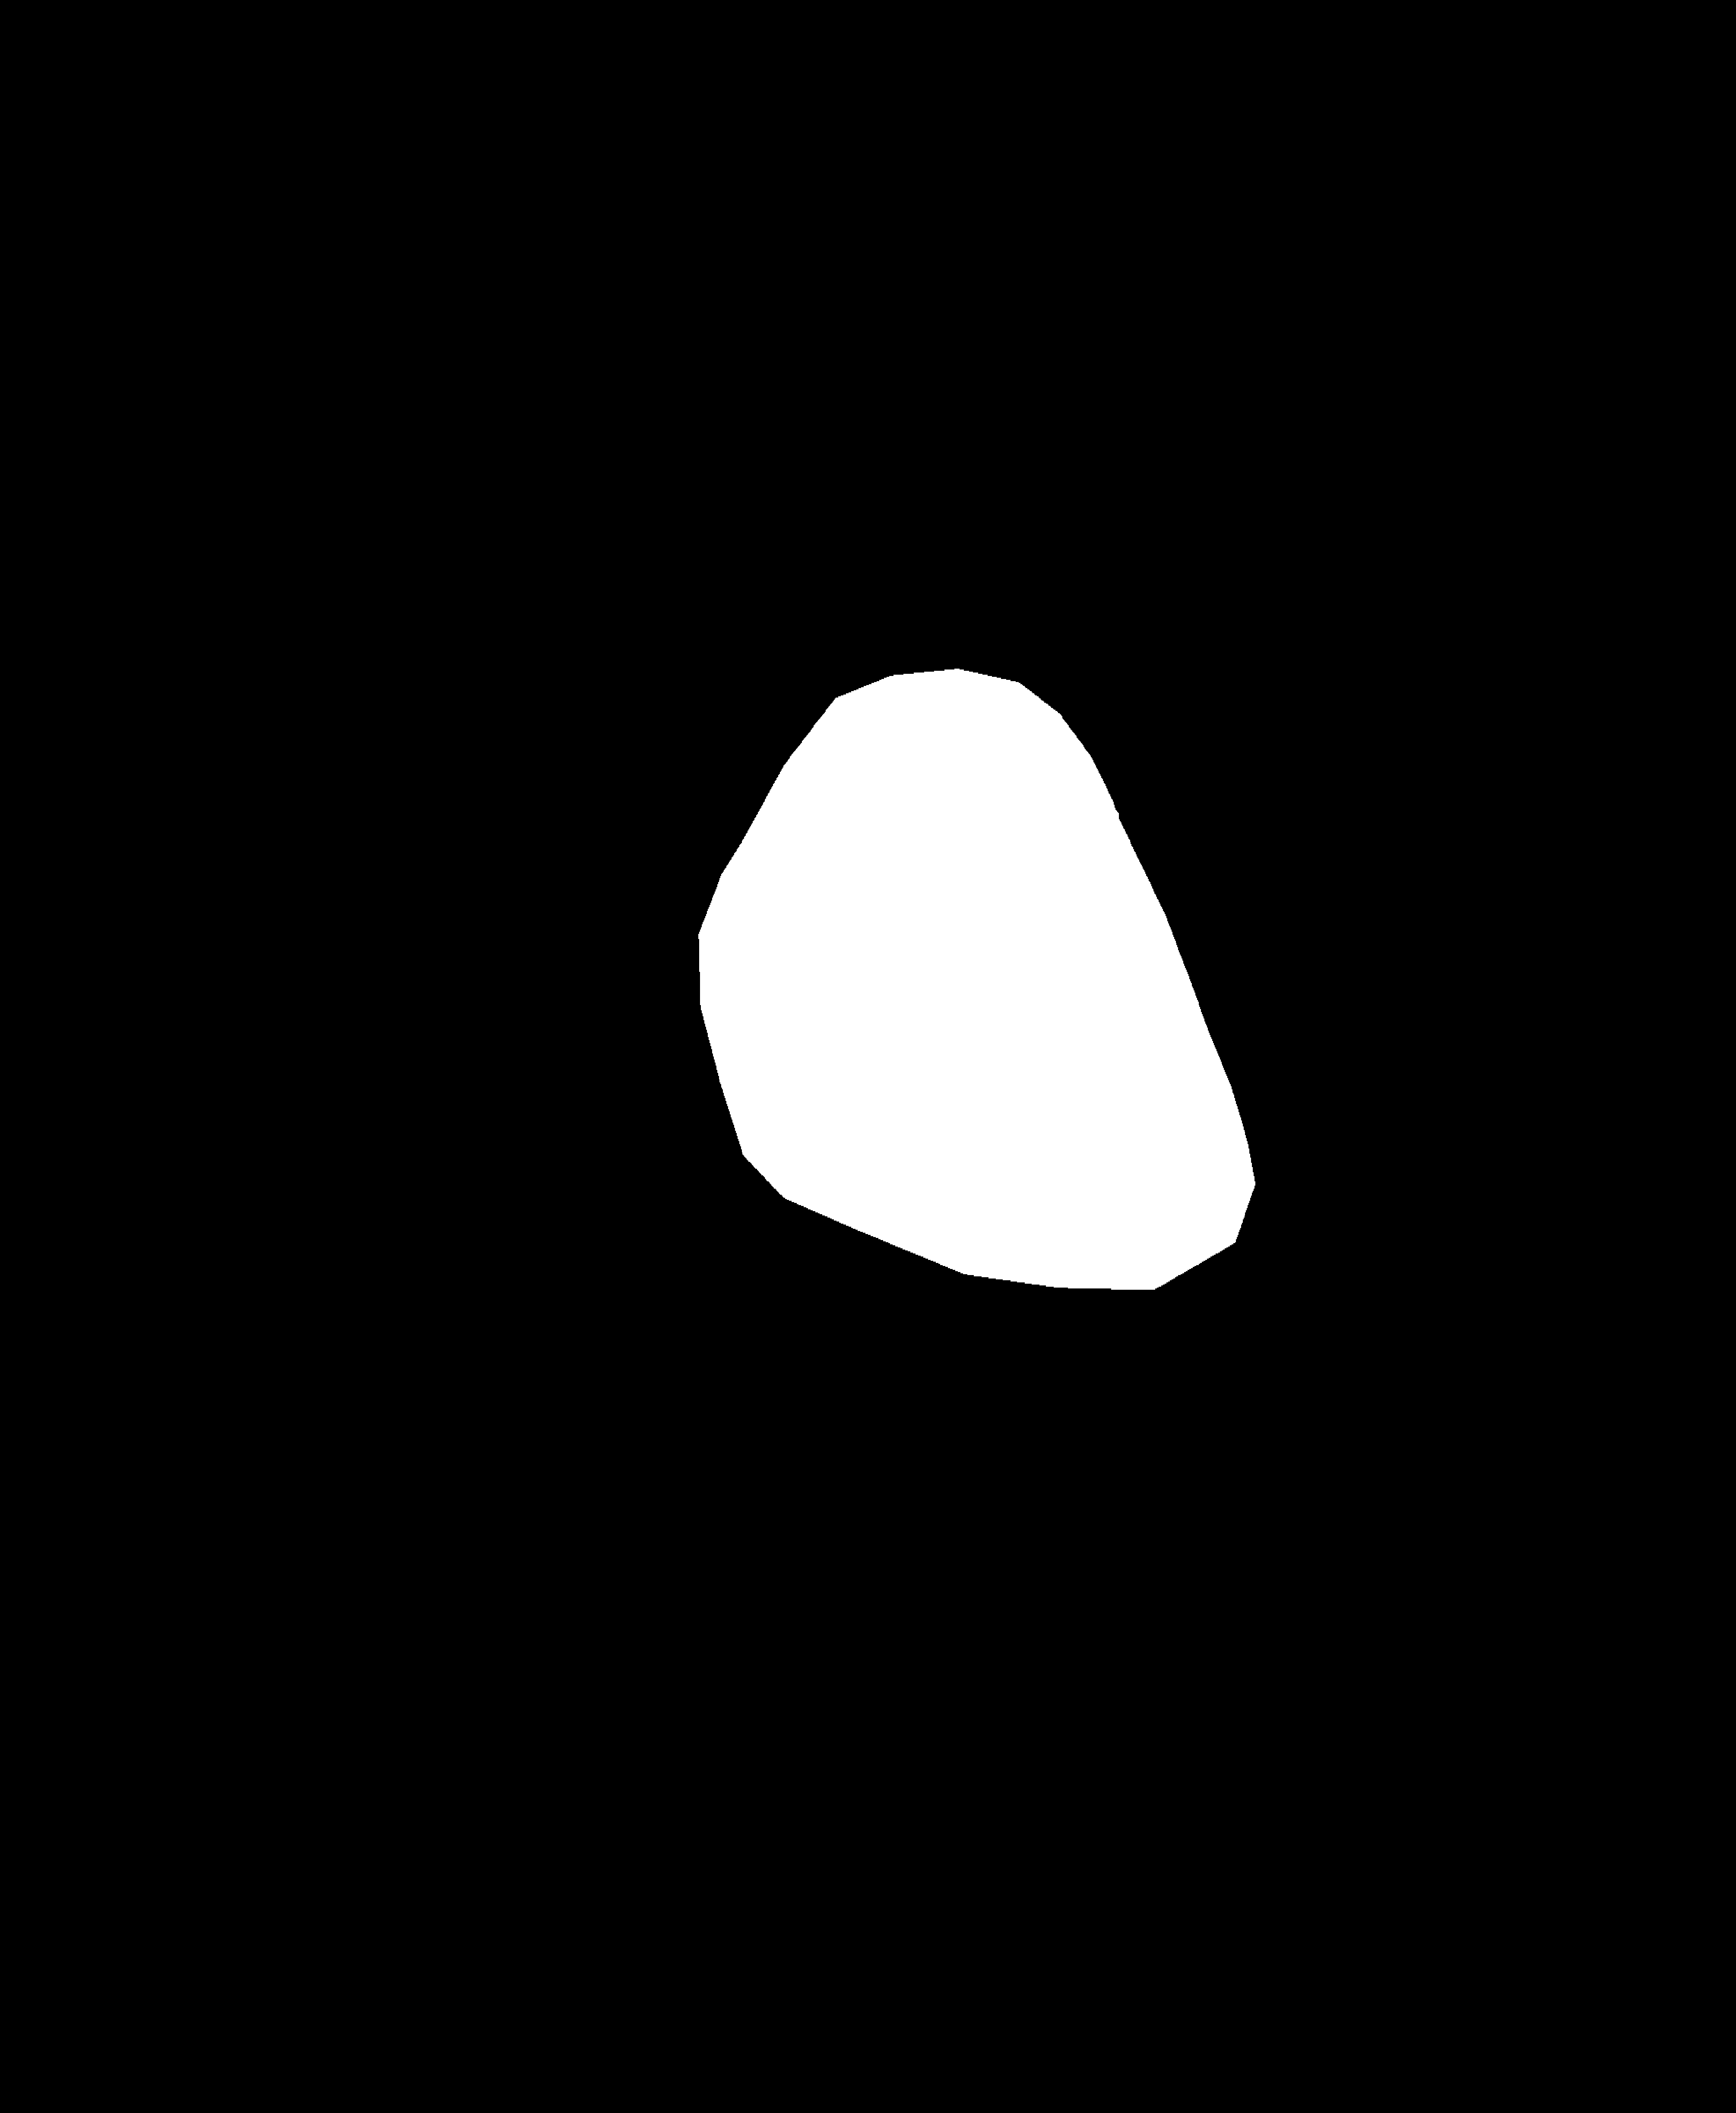heart: (695, 793, 1253, 1344)
left_lung: (221, 167, 843, 1509)
right_lung: (976, 153, 1511, 1462)
